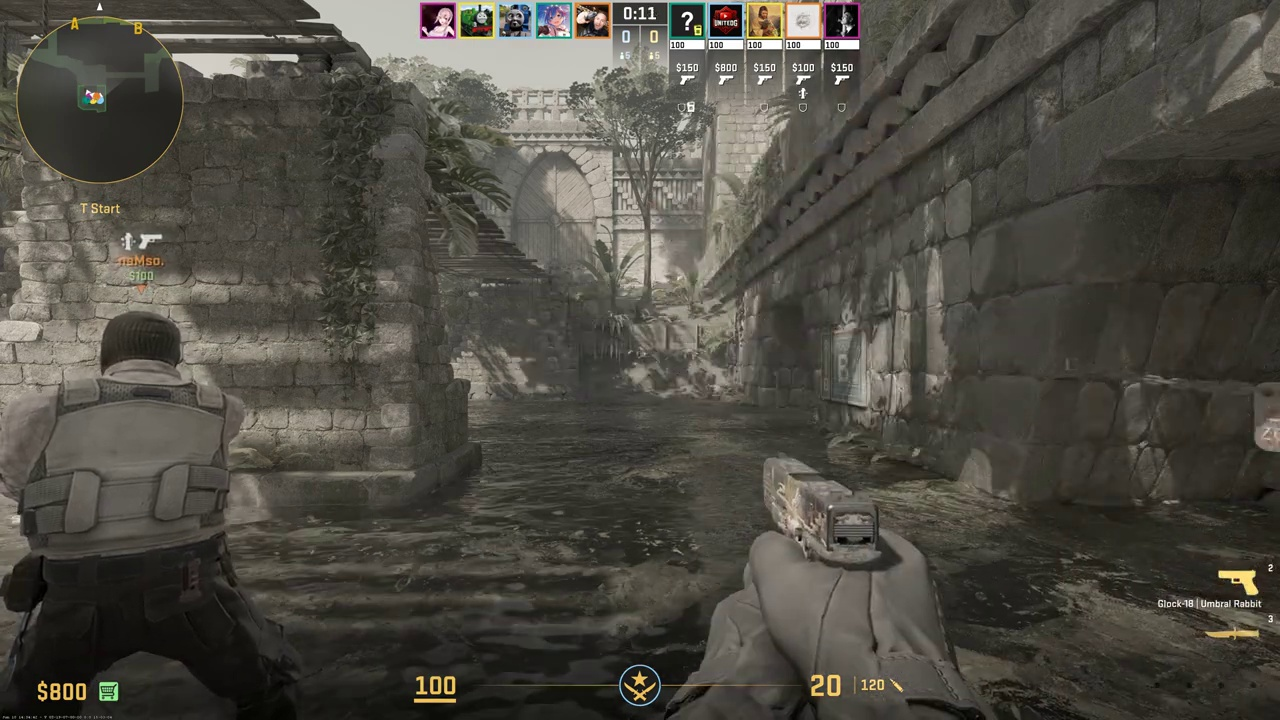Terrorist: (6, 310, 285, 715)
